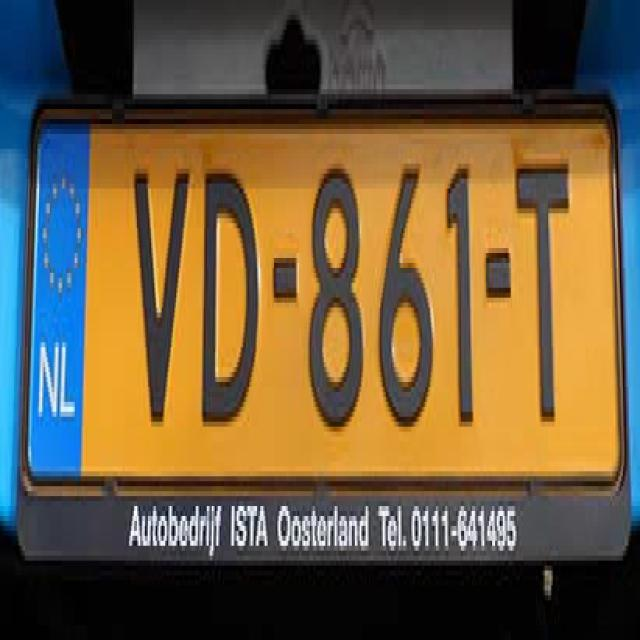EU: (16, 125, 620, 480)
Pays-Bas: (26, 125, 92, 480)
